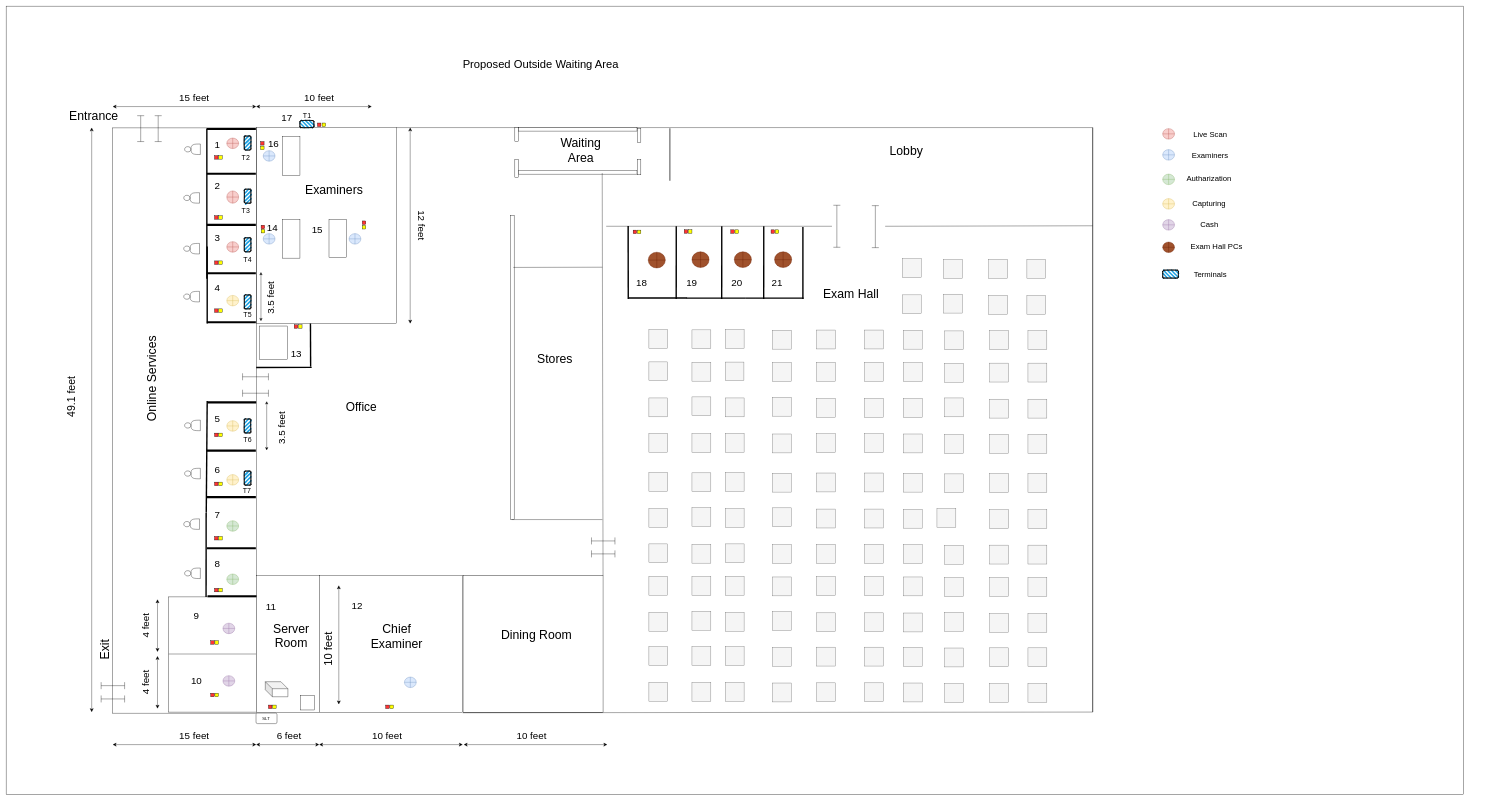
This 1498x800 diagram has some shape labels left out. The box of each missing label's shape, as (x1, y1, x2, y2) in pixels:
AC: (300, 695, 315, 710)
Network printer: (259, 326, 287, 360)
